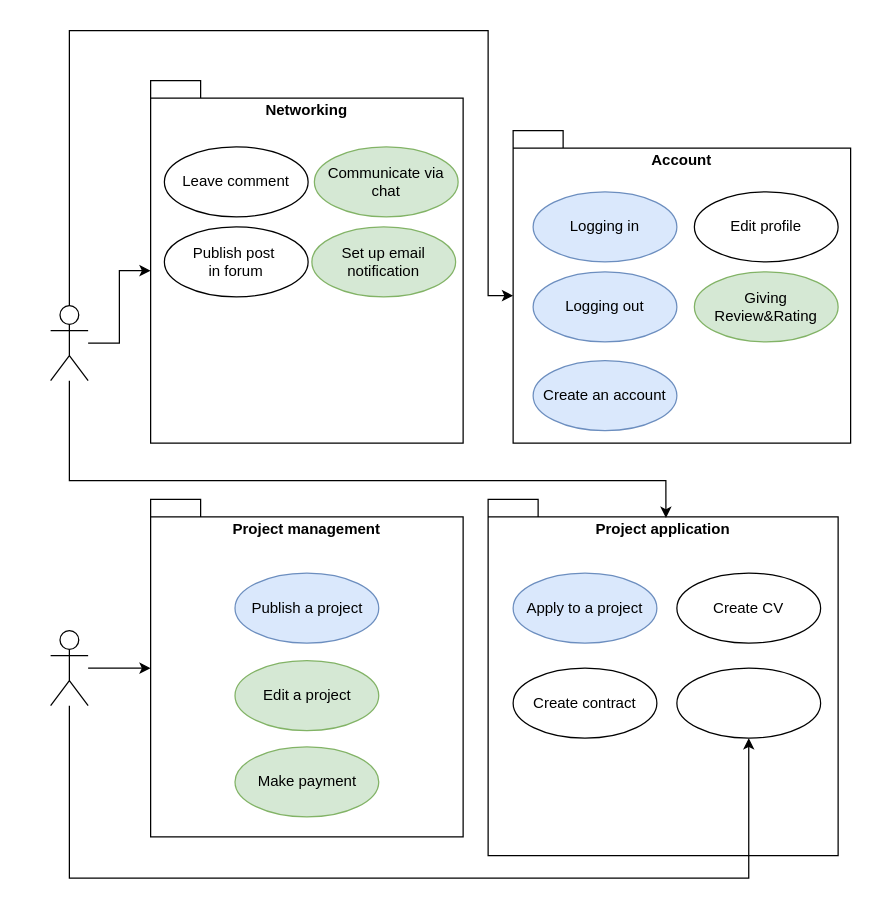
Image size: 873x910. Some labels were removed from this diagram. The centre of each missing label's shape, as x and y in pixels:
"Developer" belongs at (x=68, y=342).
"Edit contract" belongs at (x=748, y=702).
"Project Owner" belongs at (x=68, y=667).
